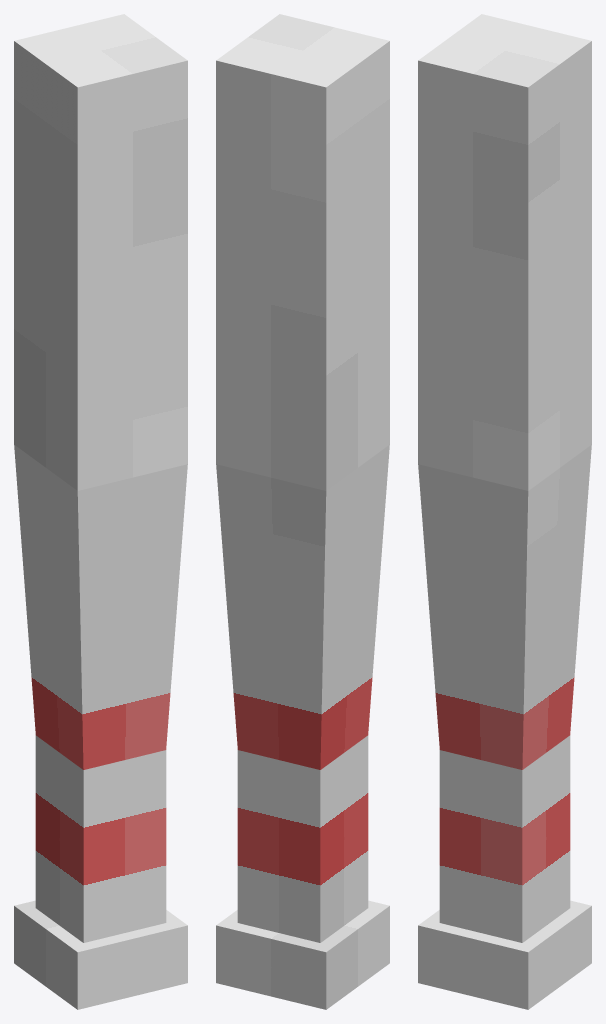
Rendered from Baseball_Bat.fbx.
3 renders of one model, left to right at view 1: azimuth 30°, elevation 25°; view 2: azimuth 150°, elevation 25°; view 3: azimuth 330°, elevation 25°, orthographic.
Visible parts, largest first — view 1: cube; view 2: cube; view 3: cube.
Part boxes in pixels (<box>): cube: <box>14,14,187,1009</box>; cube: <box>216,14,389,1009</box>; cube: <box>418,14,591,1009</box>.
Bounding box in the file's own units: 12.5 × 100 × 12.5.
1 material, 1 textured.
